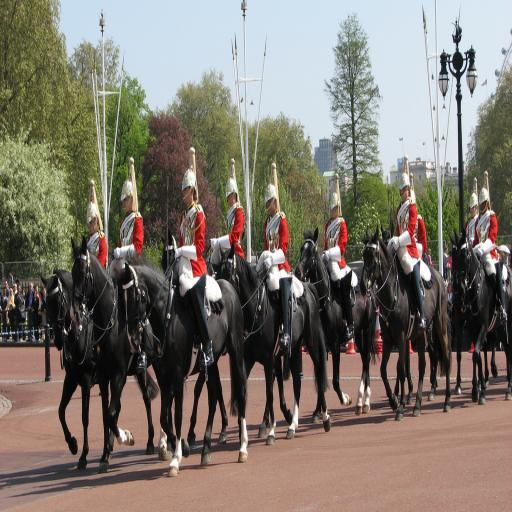horse: (38, 226, 512, 479)
